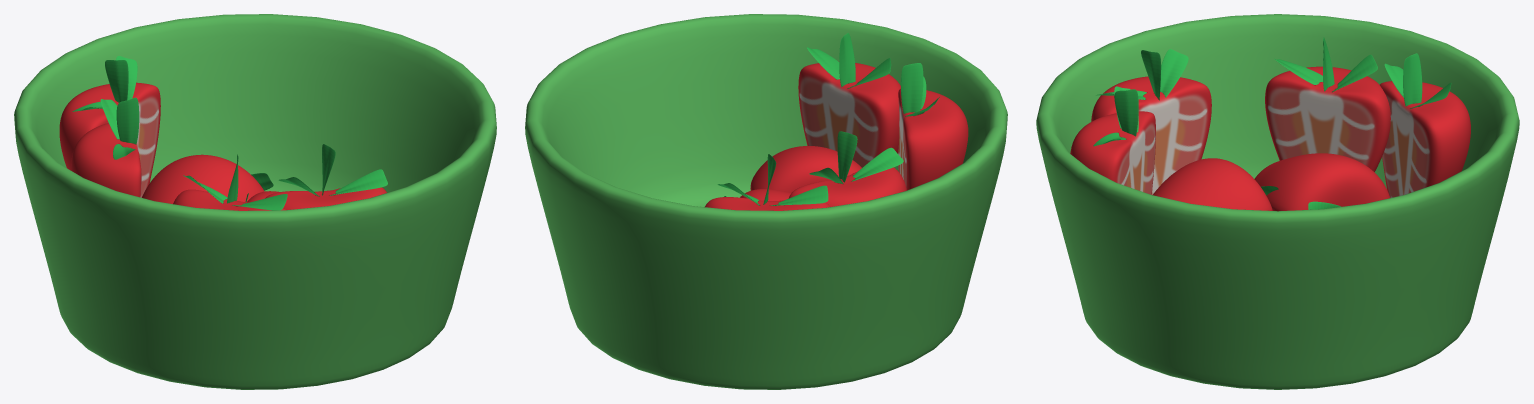
The model's file is BolFresa.fbx.
3 renders of one model, left to right at view 1: azimuth 30°, elevation 25°; view 2: azimuth 150°, elevation 25°; view 3: azimuth 270°, elevation 25°, orthographic.
Parts seen in each view (by area): view 1: Fresa cortada.005; view 2: Fresa cortada.005; view 3: Fresa cortada.005.
Part boxes in pixels (x1,y1,x2,y2): Fresa cortada.005: (14,14,496,389); Fresa cortada.005: (525,14,1007,389); Fresa cortada.005: (1036,14,1519,389).
Size of the model in its own units: 4.12 by 2.06 by 4.12.
